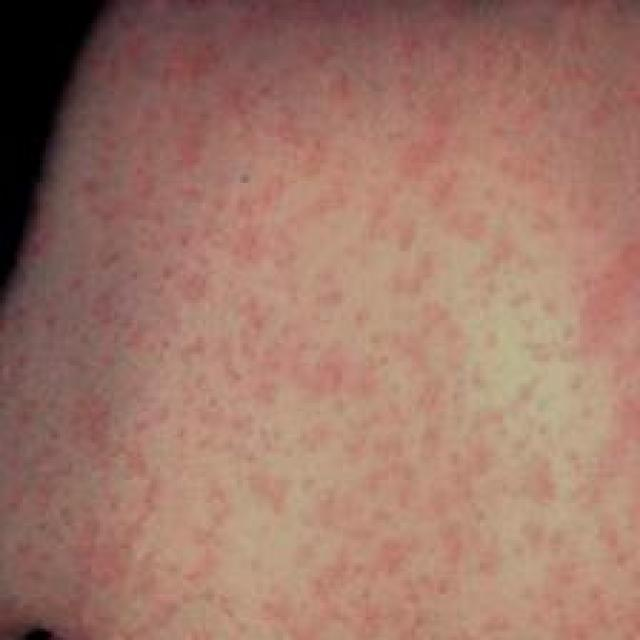others: (97, 3, 640, 640)
